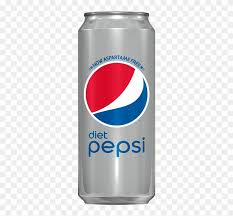pepsi: (83, 58, 150, 130)
